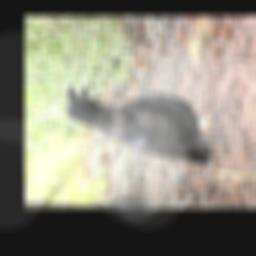Crow: (65, 84, 229, 167)
